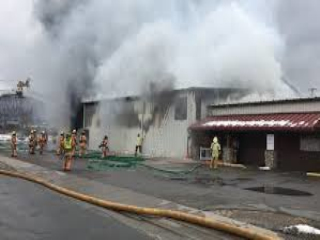smoke: (73, 4, 296, 104)
